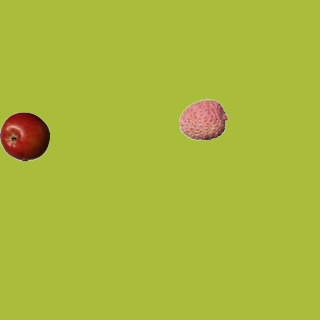Apple Braeburn: (0, 111, 49, 161)
Lychee: (178, 94, 228, 144)
